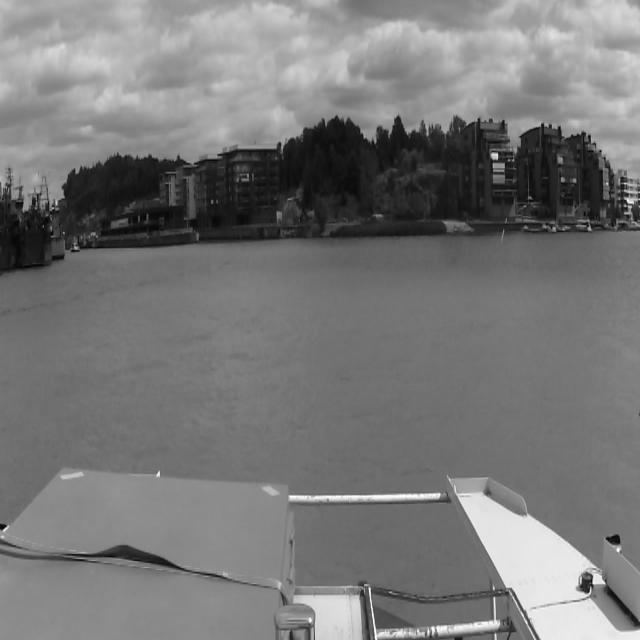buoy: (500, 218, 507, 241)
ship: (20, 193, 52, 268), (70, 242, 80, 253)
